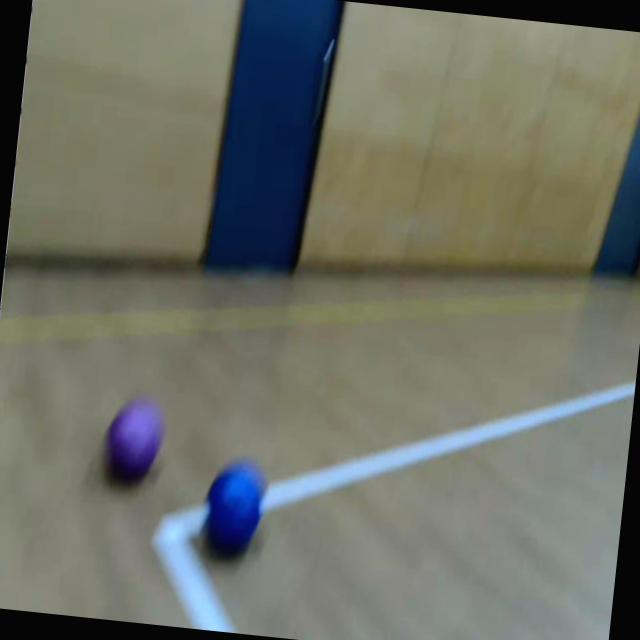blue_ball: (203, 462, 268, 552)
purple_ball: (103, 397, 165, 486)
